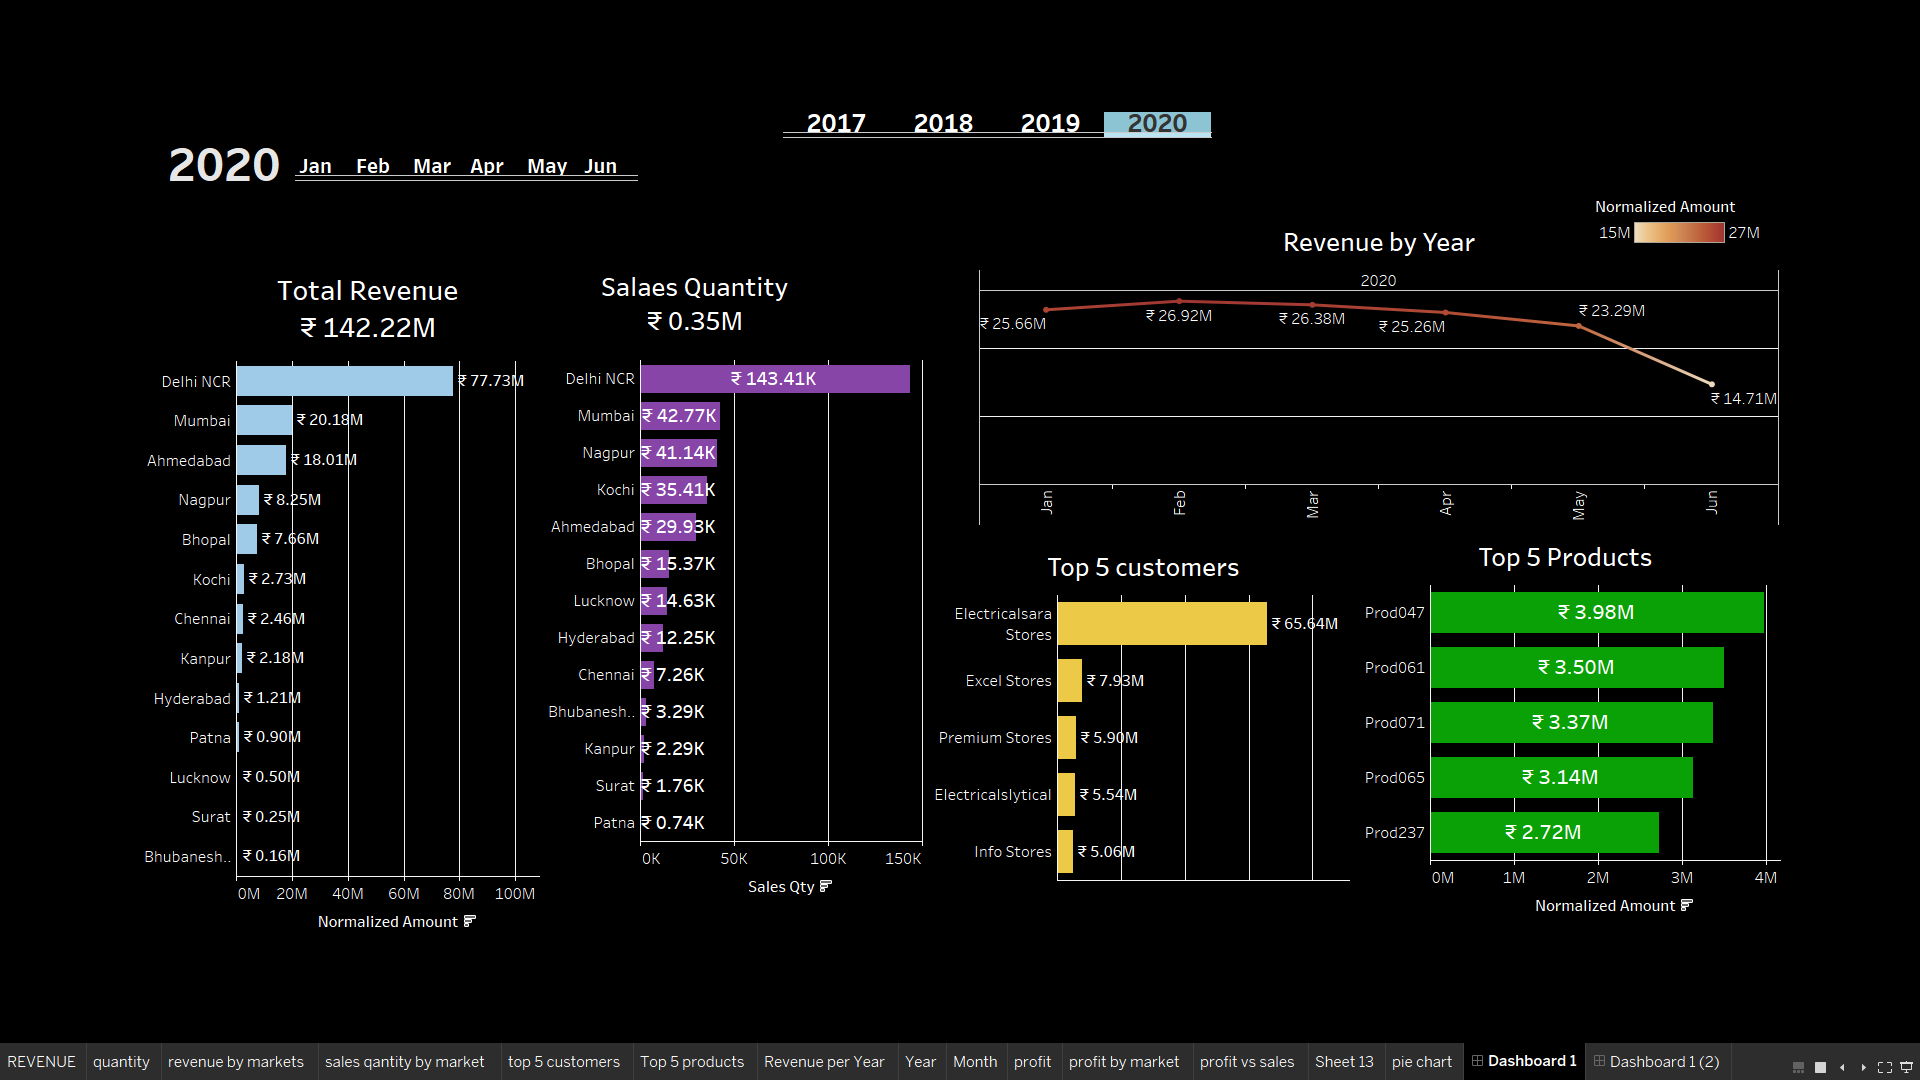

This screenshot's page, from the dashboard's own definition file:
{"tool":"tableau","page":{"name":"Dashboard 1","canvas":[1650,850],"ordinal":0},"visuals":[{"type":"worksheet","title":"Year","mark":"Automatic","cols":["cy_date"],"box":[648,1,446,62]},{"type":"worksheet","box":[25,25,375,78]},{"type":"worksheet","title":"Month","mark":"Automatic","cols":["cy_date"],"box":[503,47,715,58]},{"type":"worksheet","title":"Revenue per Year","mark":"Line","rows":["Calculation_1130122082506117121"],"cols":["cy_date","cy_date"],"param":"[federated.1wn63oq0kgk8pm16fl8hp06h48ja].[sum:Calculation_1130122082506117121:qk","box":[1460,100,170,65]},{"type":"worksheet","title":"Revenue per Year","mark":"Line","rows":["Calculation_1130122082506117121"],"cols":["cy_date","cy_date"],"box":[844,124,800,306]},{"type":"worksheet","title":"quantity","mark":"Automatic","box":[517,164,211,115]},{"type":"worksheet","title":"REVENUE","mark":"Automatic","box":[133,175,201,96]},{"type":"worksheet","title":"sales qantity by market","mark":"Automatic","rows":["markets_name"],"cols":["sales_qty"],"box":[413,264,375,585]},{"type":"worksheet","title":"revenue by markets","mark":"Automatic","rows":["markets_name"],"cols":["Calculation_1130122082506117121"],"box":[9,265,396,578]},{"type":"worksheet","title":"Top 5 products","mark":"Automatic","rows":["product_code (products)"],"cols":["Calculation_1130122082506117121"],"box":[1215,439,431,407]},{"type":"worksheet","title":"top 5 customers","mark":"Automatic","rows":["custmer_name"],"cols":["Calculation_1130122082506117121"],"box":[798,449,421,397]}]}

Visuals, with their boxes on the page's 1650x850 design canvas (x1, y1, x2, y2). These are canvas units, not pixel positions in the 1920x1080 screenshot, which may show the page scaled, cropped or inside an application window:
"Year" worksheet: detection(648, 1, 1094, 63)
worksheet: detection(25, 25, 400, 103)
"Month" worksheet: detection(503, 47, 1218, 105)
"Revenue per Year" worksheet (Line marks): detection(1460, 100, 1630, 165)
"Revenue per Year" worksheet (Line marks): detection(844, 124, 1644, 430)
"quantity" worksheet: detection(517, 164, 728, 279)
"REVENUE" worksheet: detection(133, 175, 334, 271)
"sales qantity by market" worksheet: detection(413, 264, 788, 849)
"revenue by markets" worksheet: detection(9, 265, 405, 843)
"Top 5 products" worksheet: detection(1215, 439, 1646, 846)
"top 5 customers" worksheet: detection(798, 449, 1219, 846)
